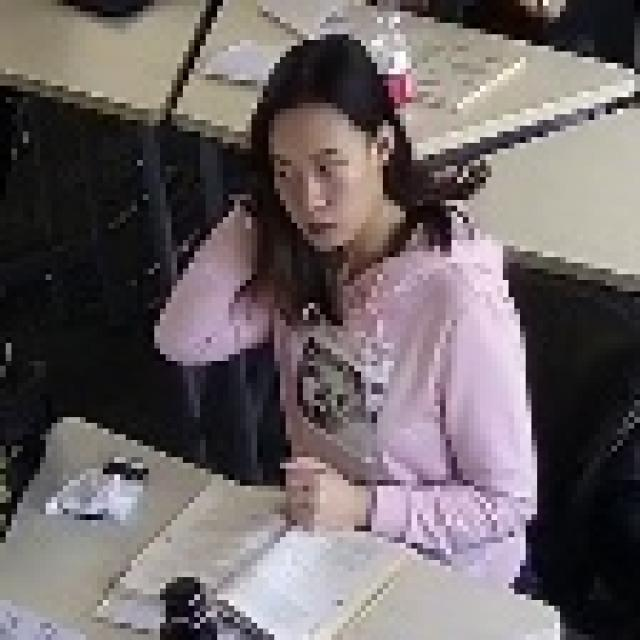listen: (157, 40, 551, 596)
